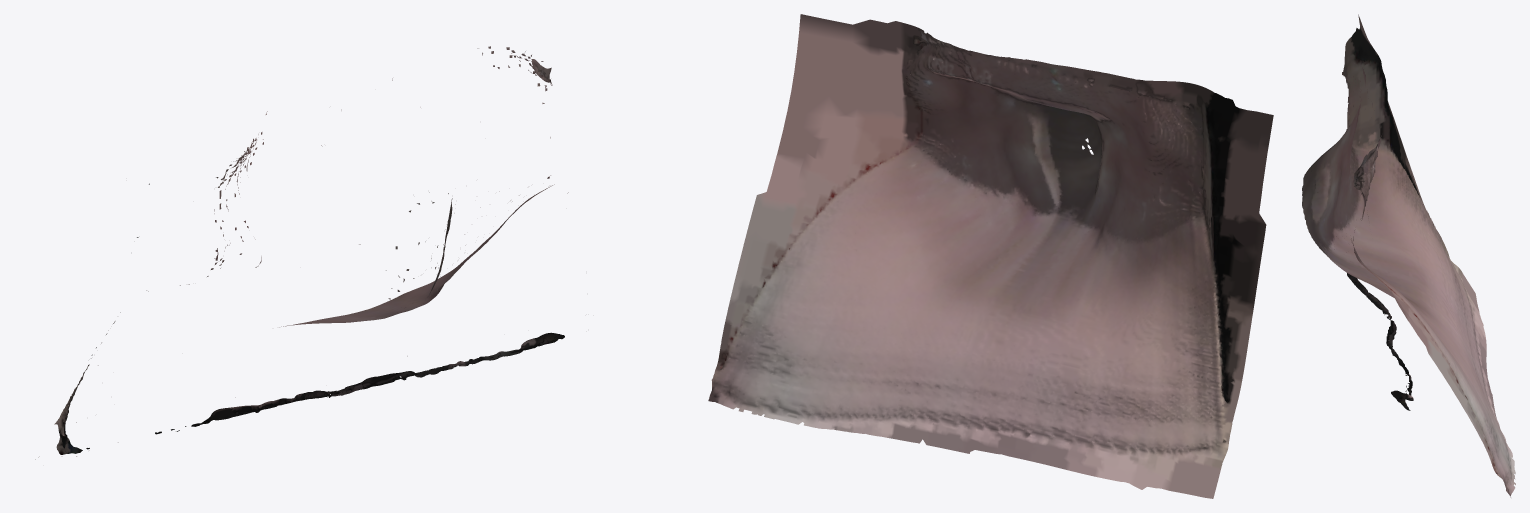
The picture shows the model from 3 angles, left to right: view 1: azimuth 30°, elevation 25°; view 2: azimuth 150°, elevation 25°; view 3: azimuth 270°, elevation 25°; orthographic projection. The views are drawn at different scales.
Size of the model in its own units: 0.0014 by 0.000943 by 0.000628.
